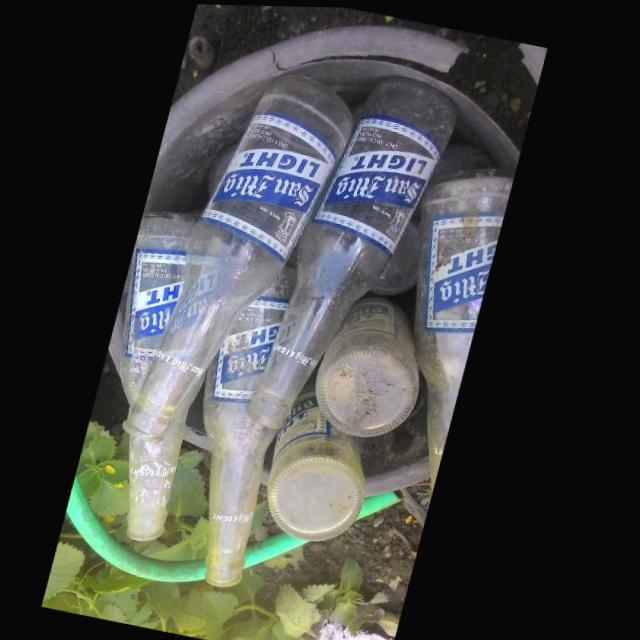glass: (129, 69, 355, 441), (254, 72, 458, 427), (419, 163, 517, 493), (207, 262, 300, 586), (274, 373, 375, 538), (319, 288, 427, 435), (125, 209, 201, 404), (135, 398, 196, 539)
